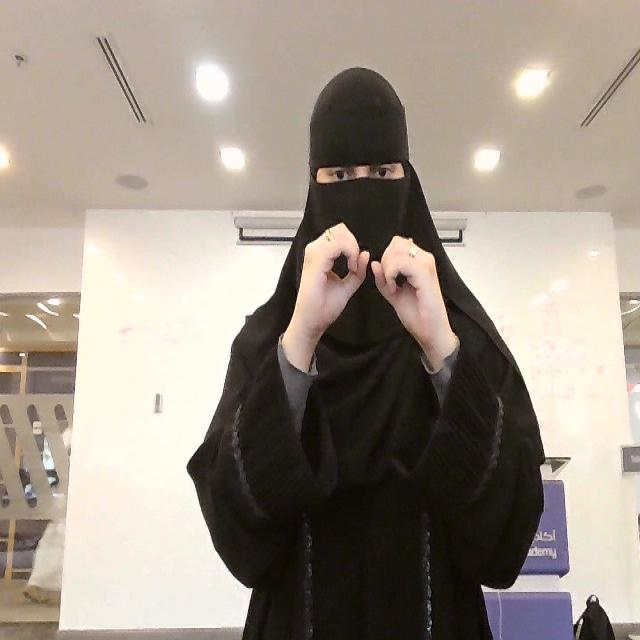analysis: (286, 220, 458, 333)
